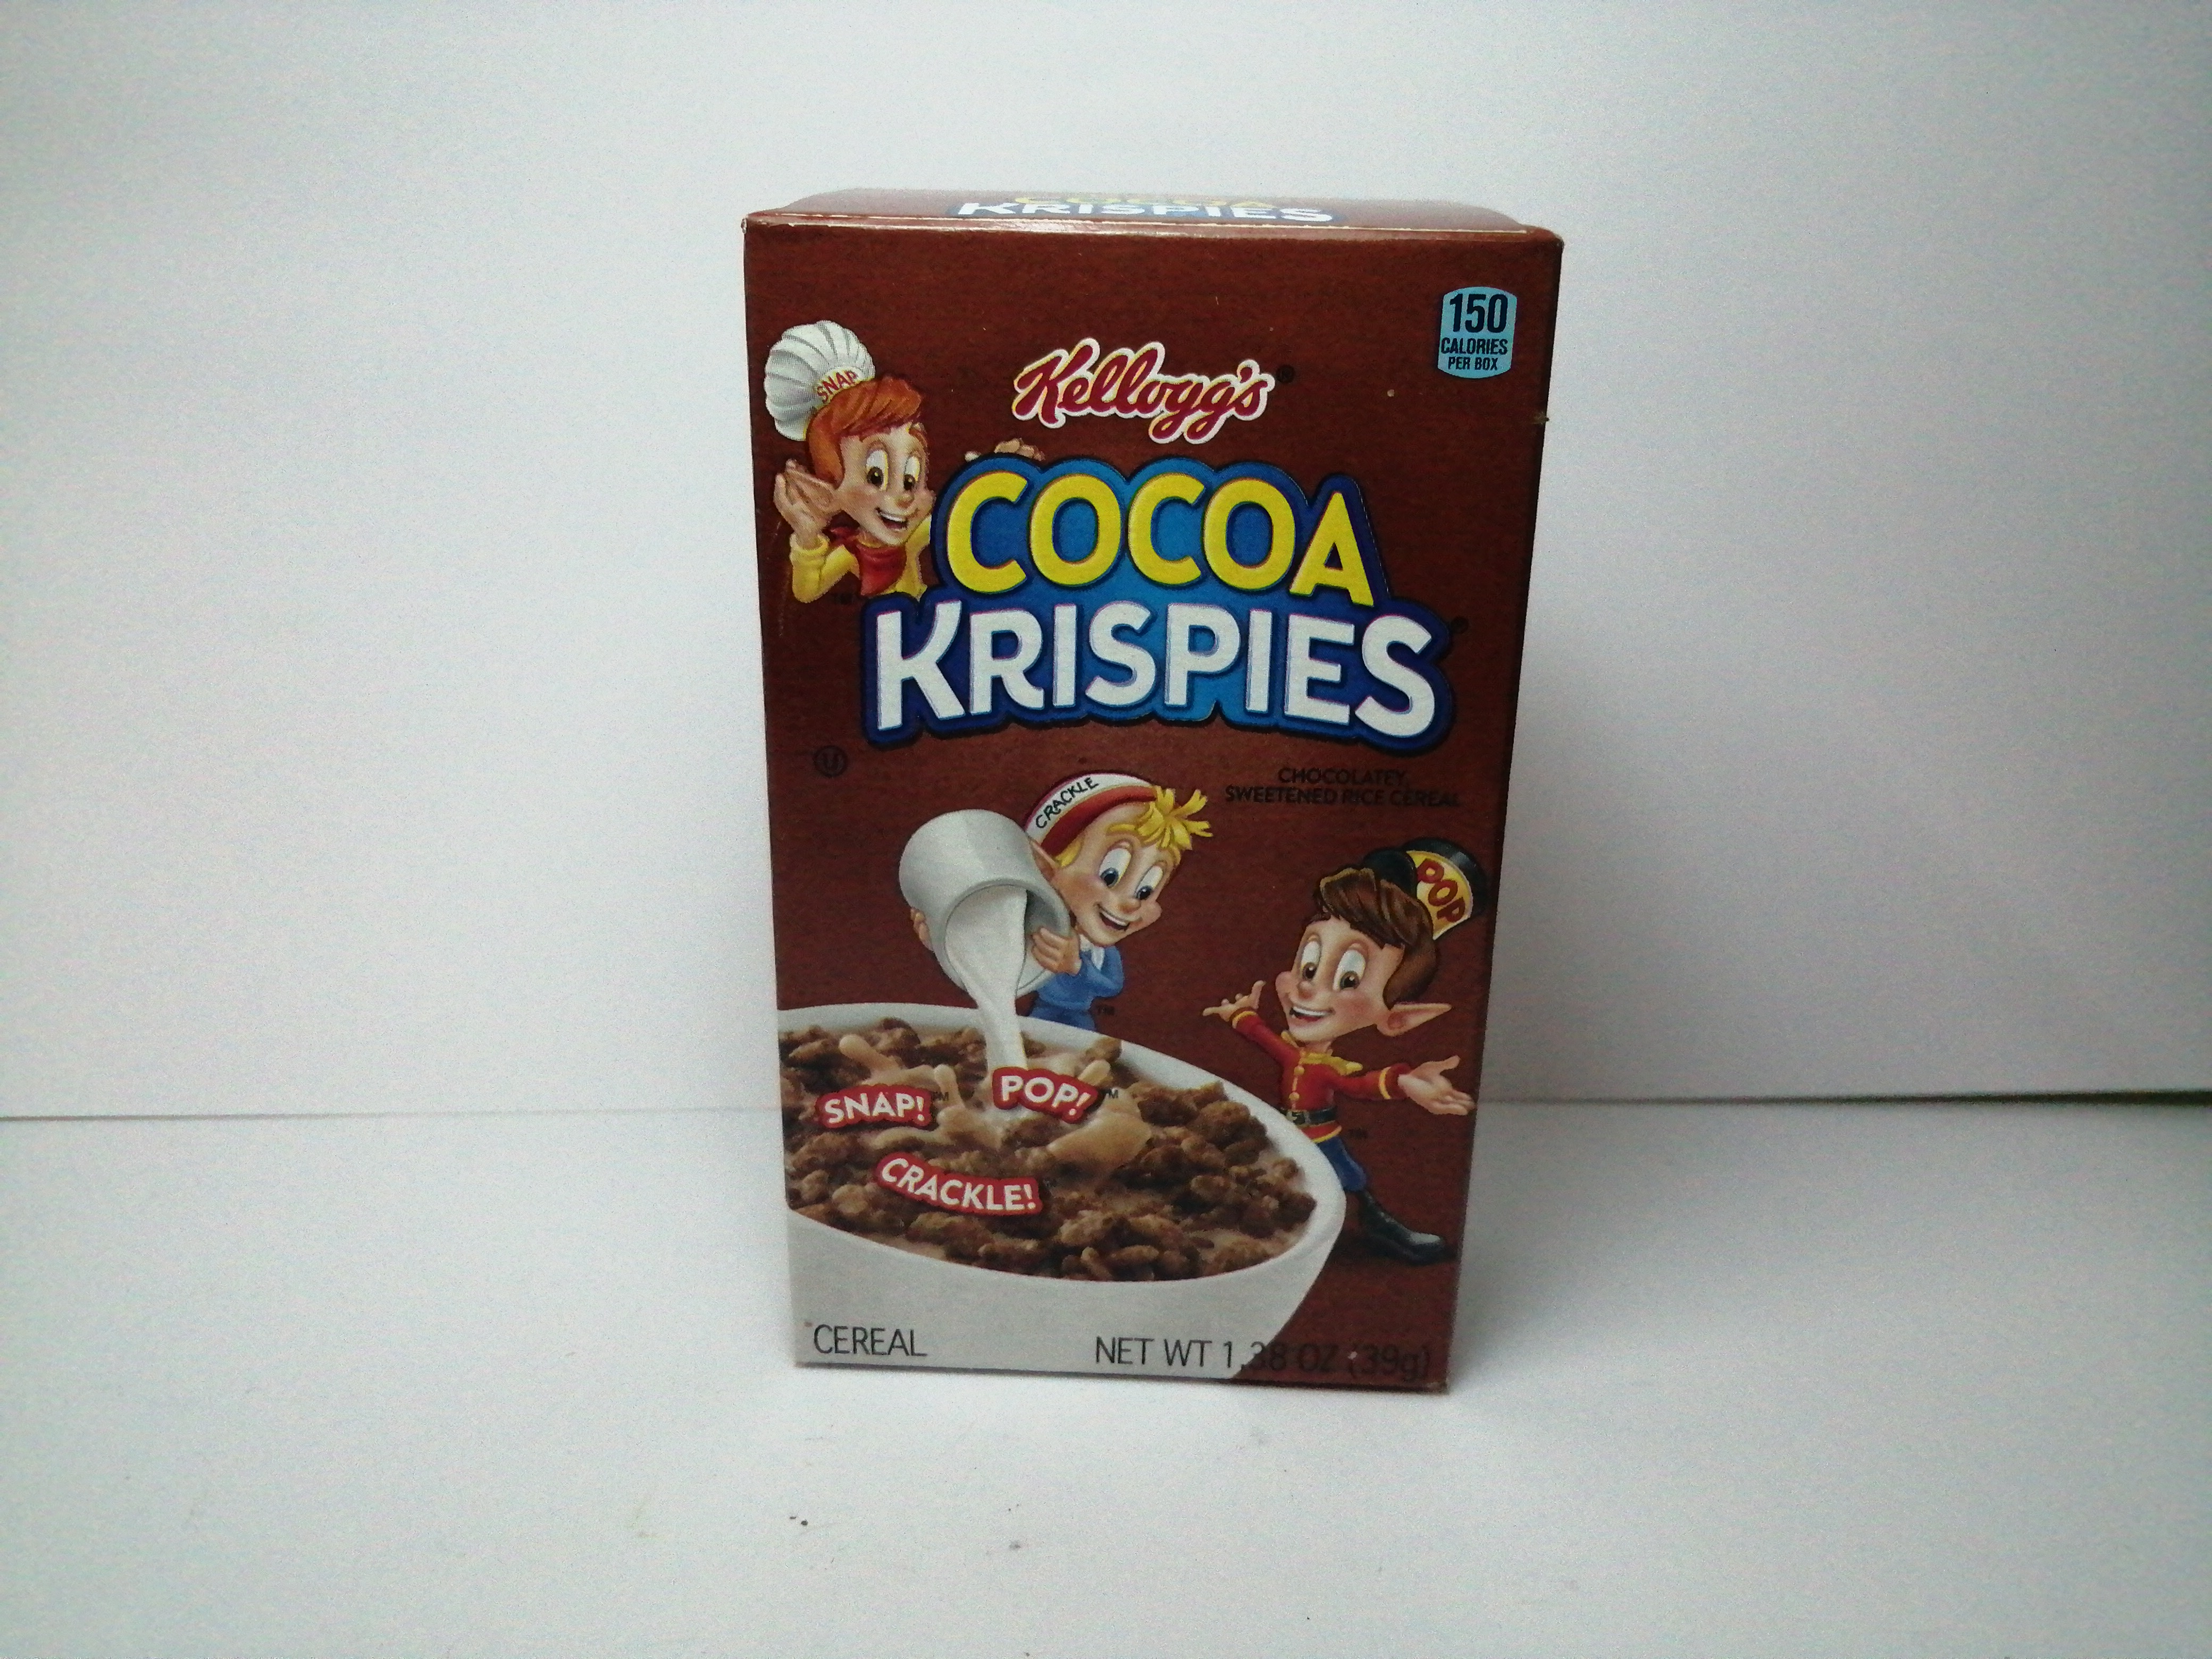cereal chocolate: (716, 143, 1571, 1413)
